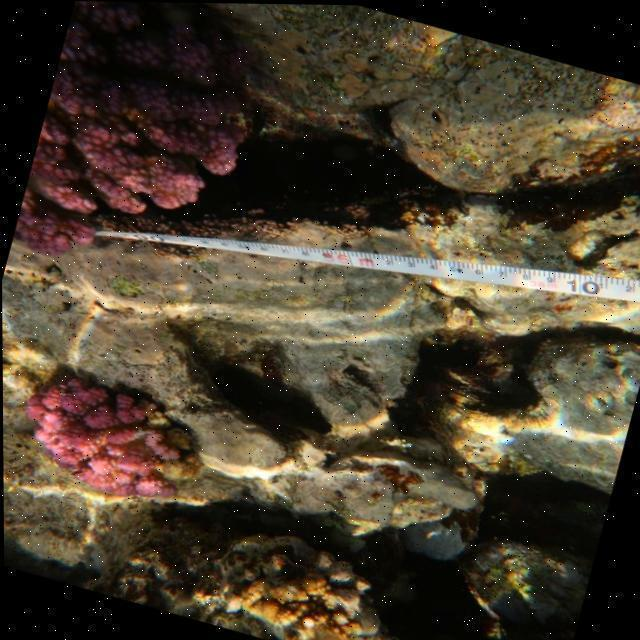Healthy Coral: (7, 0, 279, 302), (10, 351, 199, 520)
